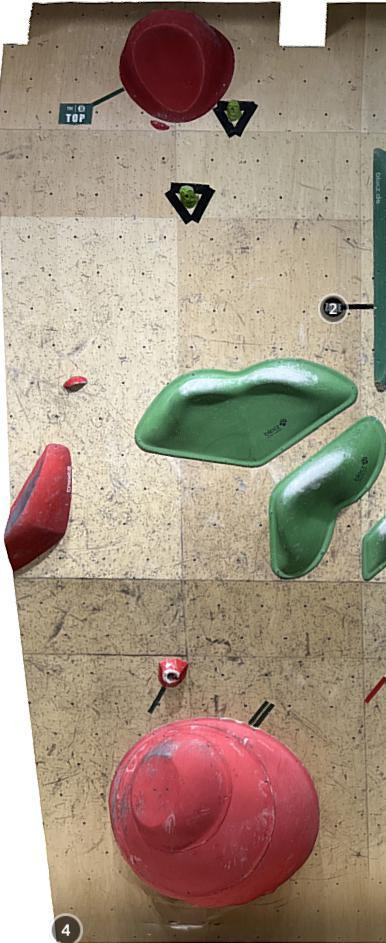hold: (109, 717, 320, 908), (134, 358, 358, 466), (269, 416, 386, 579), (119, 9, 234, 124), (4, 444, 71, 571), (164, 183, 216, 224), (213, 99, 259, 140), (362, 514, 386, 582), (158, 658, 189, 688), (63, 376, 88, 389), (150, 120, 170, 130)
volume: (372, 146, 386, 395)
